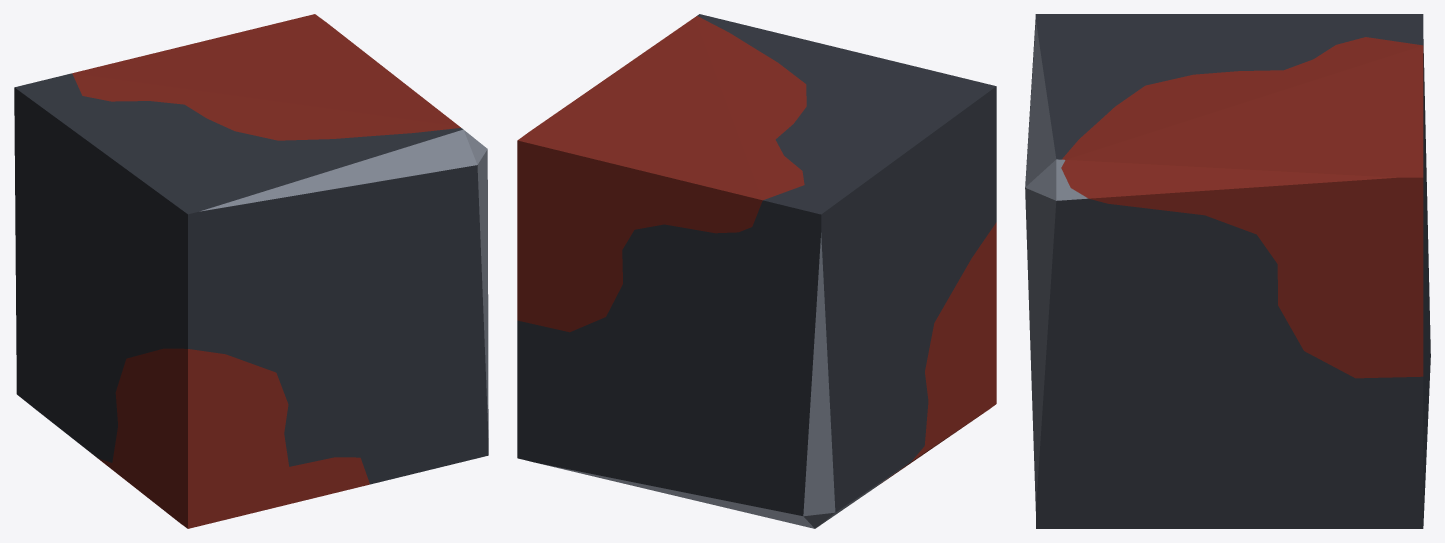
File: Volcanic_stone_farm.fbx
3 views of the same model, side by side, from view 1: azimuth 30°, elevation 25°; view 2: azimuth 150°, elevation 25°; view 3: azimuth 270°, elevation 25° (orthographic). The views are drawn at different scales.
Visible parts, largest first — view 1: Cube.001; view 2: Cube.001; view 3: Cube.001.
Boxes of the visible parts, x1,y1,x2,y2 form: Cube.001: (14, 14, 488, 528); Cube.001: (517, 14, 996, 528); Cube.001: (1025, 14, 1430, 528).
Bounding box in the file's own units: 0.684 × 0.684 × 0.684.
